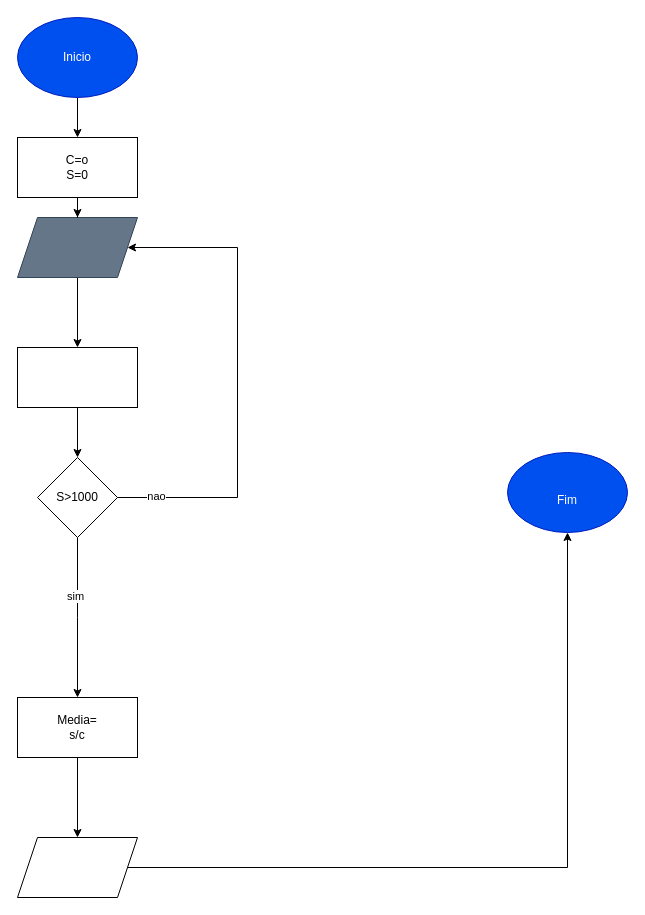
The diagram is 645 pixels wide and 915 high, and some of its shapes have lost their labels. Here are the shapes that lost their labels. From the top down, the box of each, then its label:
(16, 216, 138, 278): ler_n
(16, 346, 138, 408): C=+1 S=S+N
(16, 836, 138, 898): escrever Media
